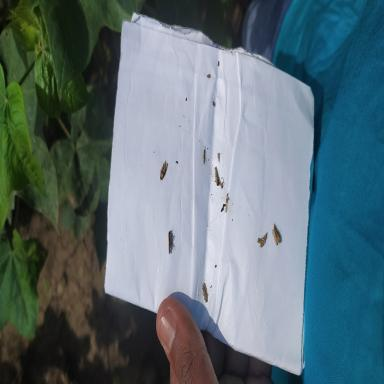pbw: (159, 158, 169, 180), (167, 230, 173, 254), (214, 163, 220, 187), (273, 222, 280, 242), (202, 280, 208, 303), (260, 231, 268, 248), (272, 229, 278, 249), (202, 147, 206, 166)
